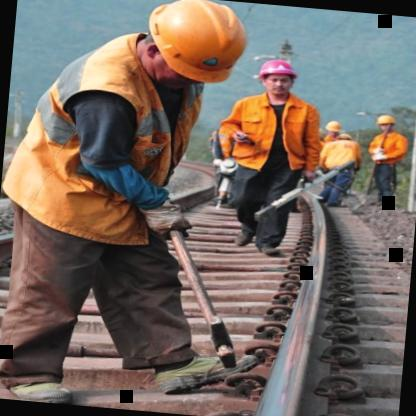helmet: (130, 0, 256, 89), (254, 51, 304, 101), (375, 110, 399, 138), (324, 118, 344, 140)
